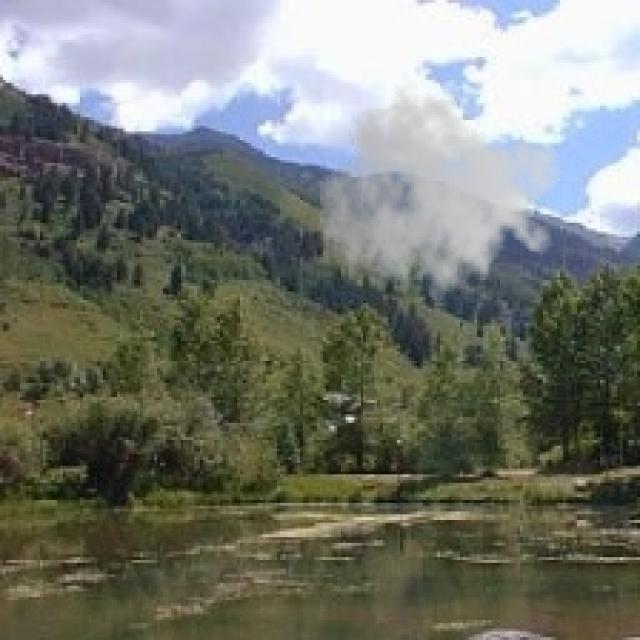smoke: (317, 80, 563, 317)
